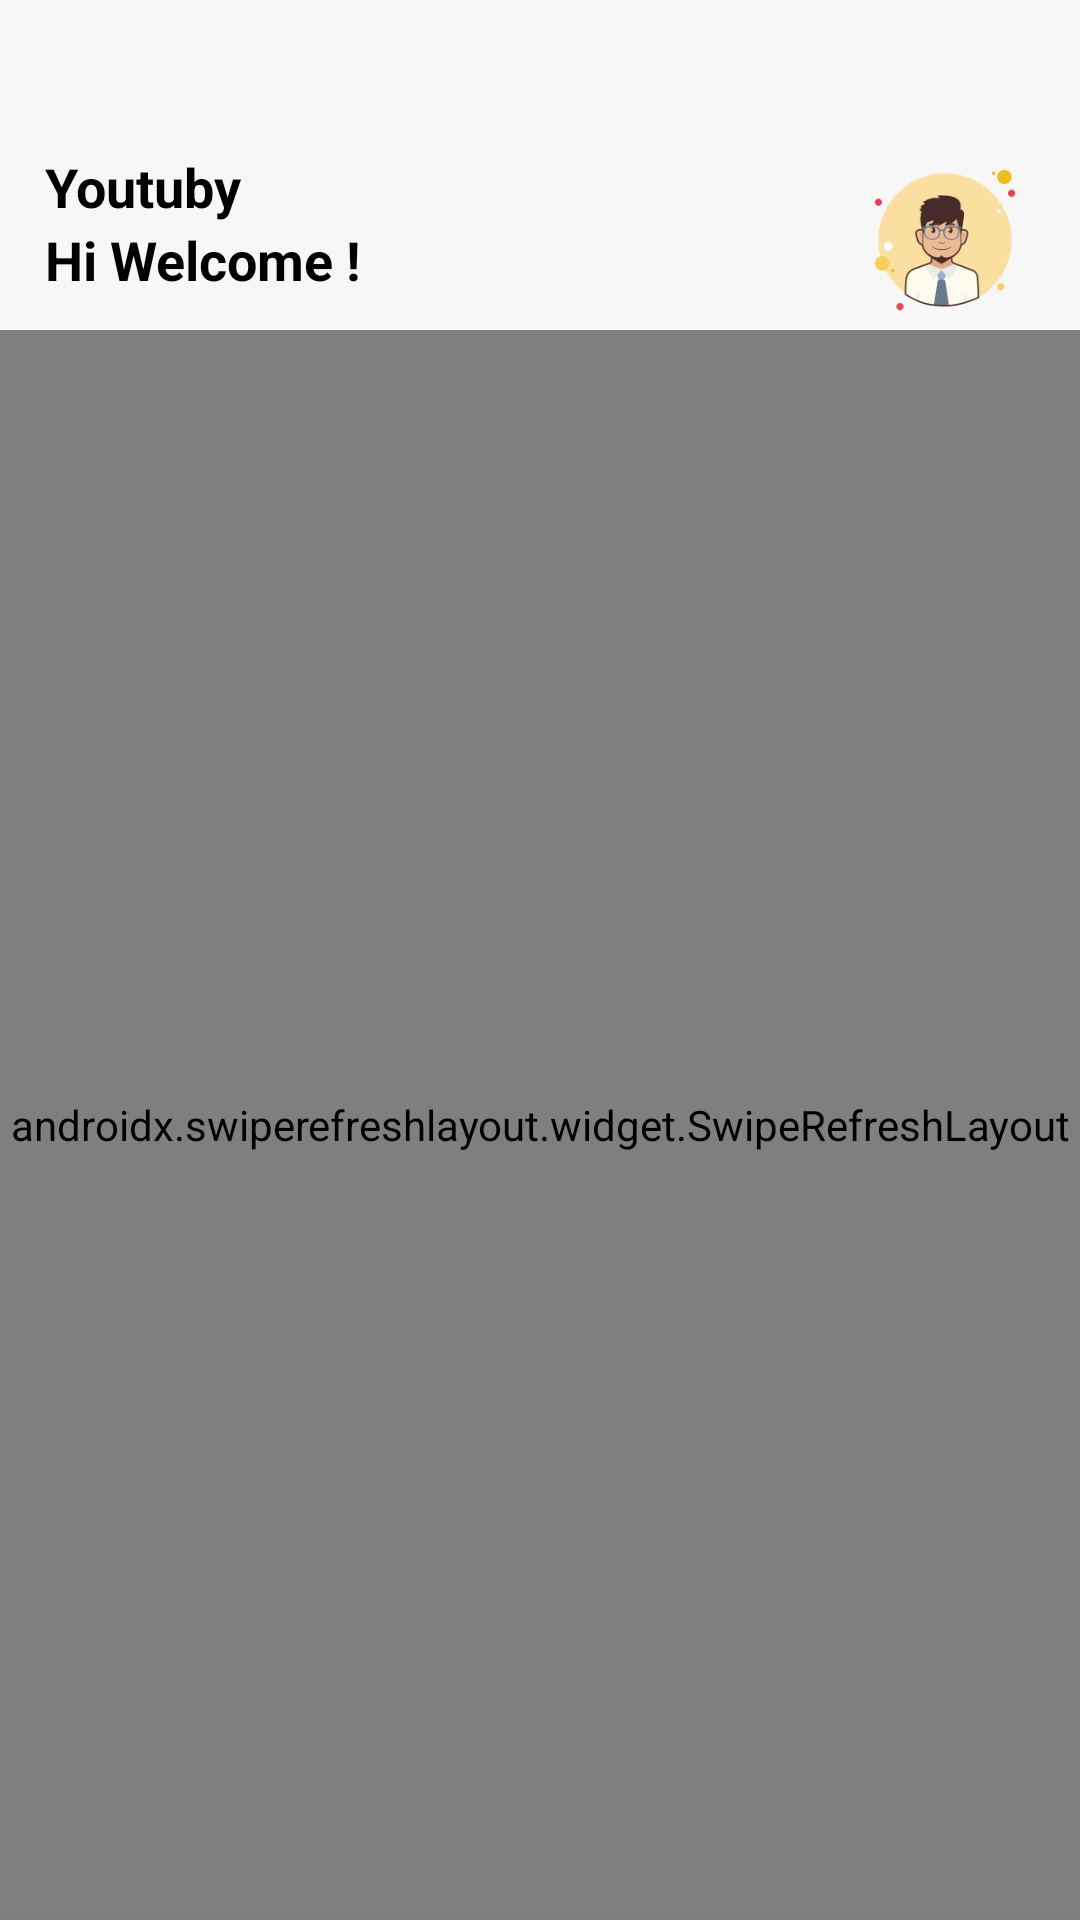

Icons on this 1080px x 1920px Android screen, each with its box as (x1, y1, x2, y2):
administrator profile: (874, 169, 1016, 311)
